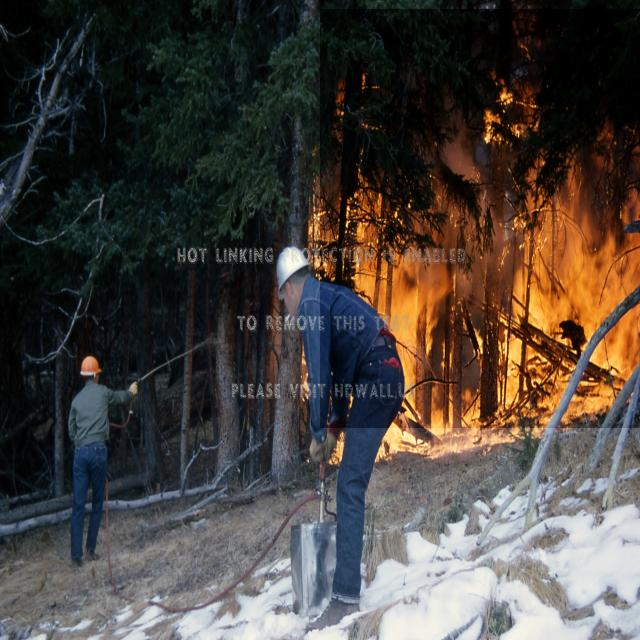Fire: (320, 9, 640, 428)
